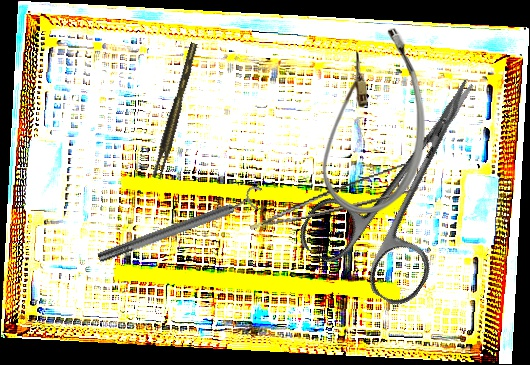Cannula: (321, 28, 425, 214)
Fixation Ring: (93, 183, 270, 270)
Iris Scissors: (292, 48, 530, 314)
Tissue Forceps: (243, 161, 422, 231), (147, 42, 205, 180)
